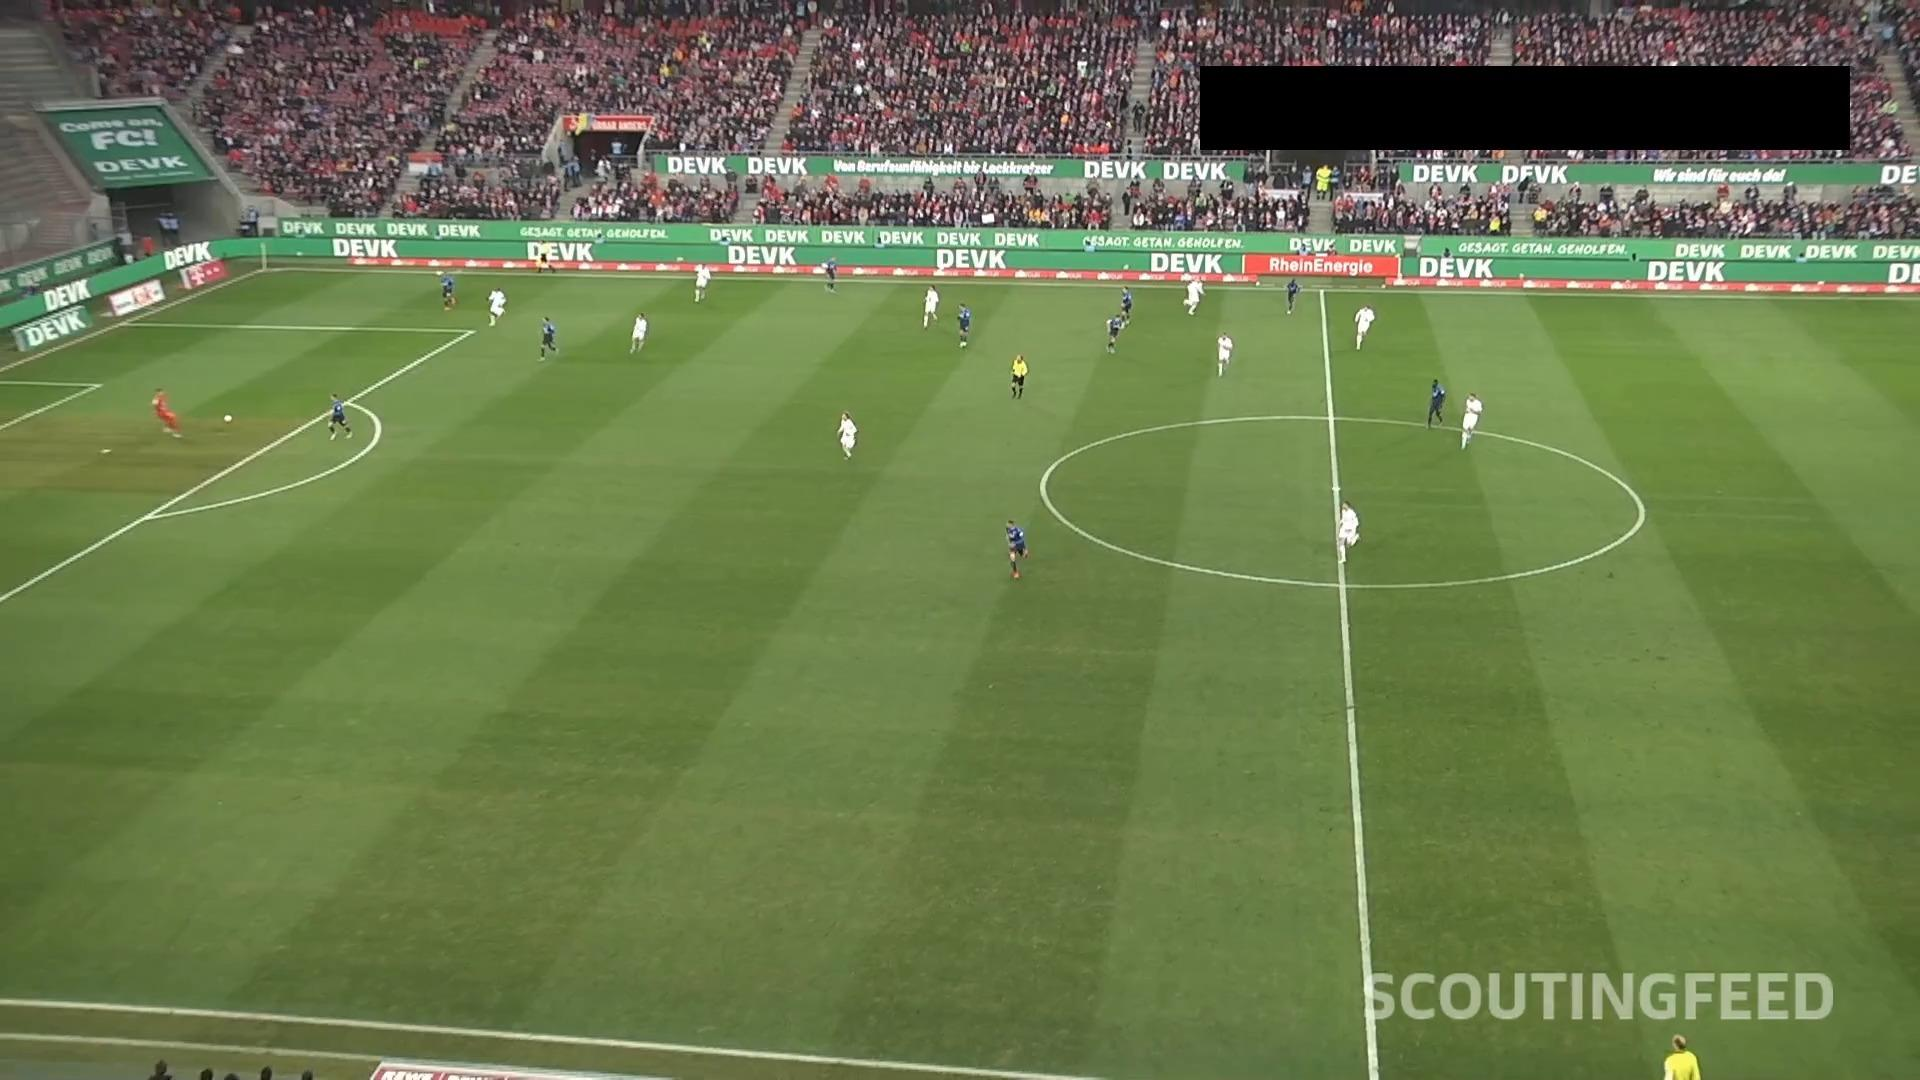ball: (224, 414, 232, 423)
